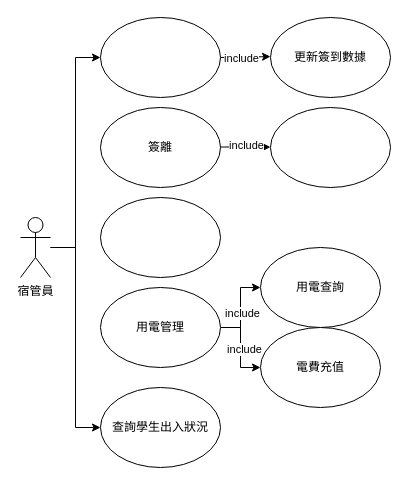
The diagram is 408 pixels wide and 485 high, and some of its shapes have lost their labels. The centre of each missing label's shape, as x and y in pixels:
更新簽離數據: [330,147]
查詢登記: [160,237]
簽到: [160,57]
